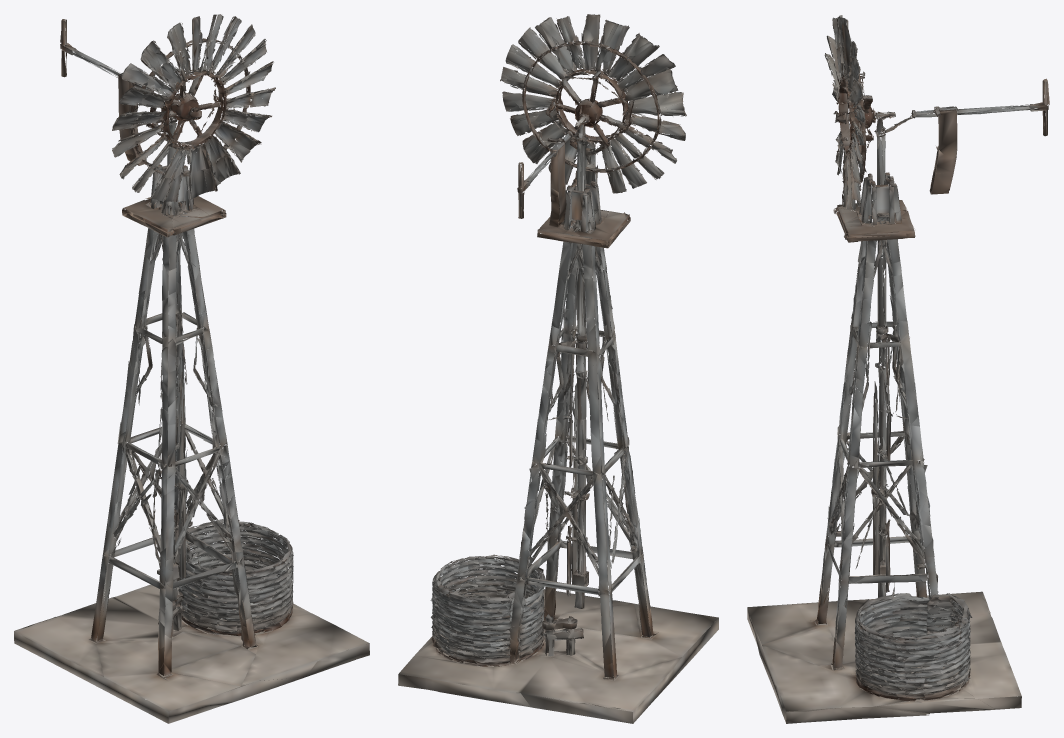
Rendered from windmill.glb.
3 views of the same model, side by side, from view 1: azimuth 30°, elevation 25°; view 2: azimuth 150°, elevation 25°; view 3: azimuth 270°, elevation 25° (orthographic). The views are drawn at different scales.
Parts seen in each view (by area): view 1: LO.001; view 2: LO.001; view 3: LO.001.
Part boxes in pixels (<box>): LO.001: <box>14,14,369,723</box>; LO.001: <box>398,14,718,723</box>; LO.001: <box>747,15,1049,723</box>.
Size of the model in its own units: 0.7796 by 1.91 by 0.8269.
Materials: 1 (1 with a texture image).
